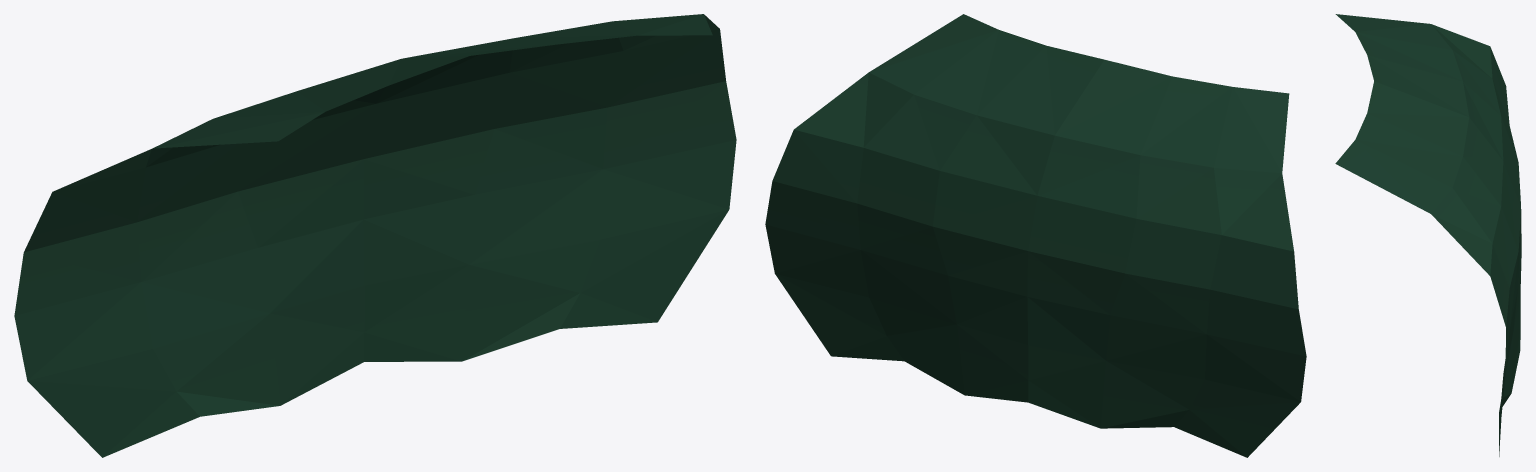
File: rohan_capa_1.glb
The picture shows the model from 3 angles, left to right: view 1: azimuth 30°, elevation 25°; view 2: azimuth 150°, elevation 25°; view 3: azimuth 270°, elevation 25°; orthographic projection. The views are drawn at different scales.
Parts seen in each view (by area): view 1: rohan_capa_1; view 2: rohan_capa_1; view 3: rohan_capa_1.
Part boxes in pixels (box(x1,y1,x2,y2)): rohan_capa_1: box(14, 14, 736, 457); rohan_capa_1: box(765, 14, 1306, 457); rohan_capa_1: box(1335, 14, 1521, 456).
Size of the model in its own units: 1.08 by 0.571 by 0.3426.
Materials: 1 (1 with a texture image).
